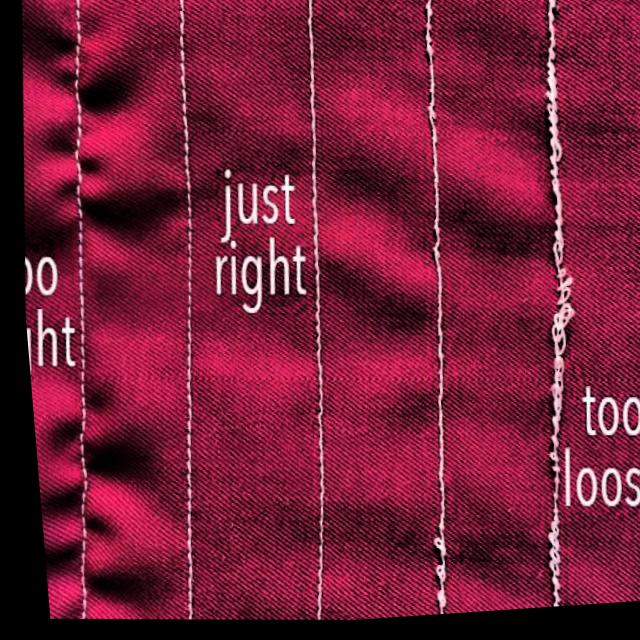Stitch: (522, 0, 587, 234), (506, 443, 564, 615), (533, 253, 578, 408)
